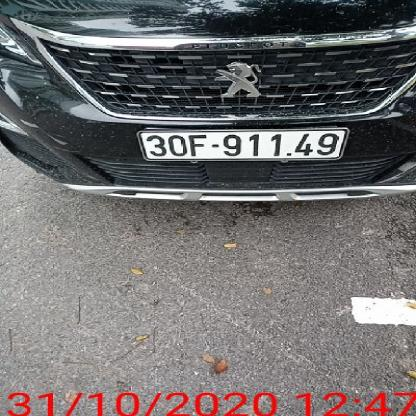biensoxe: (138, 125, 350, 164)
